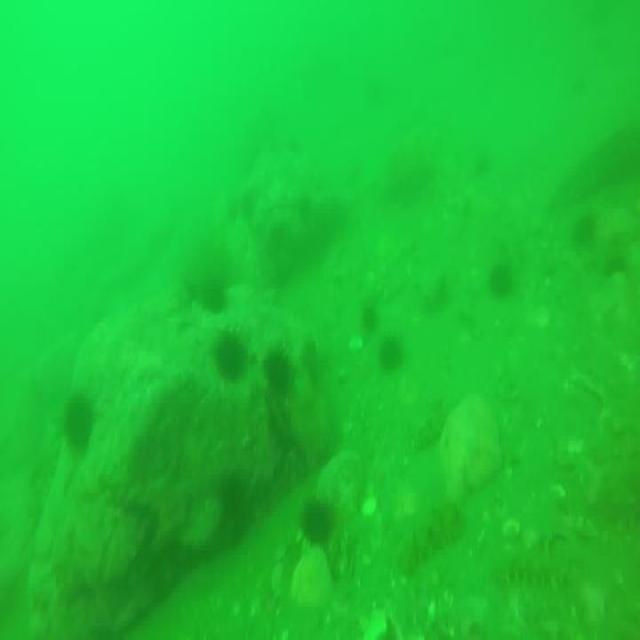echinus: (61, 387, 95, 452), (300, 494, 336, 546), (216, 328, 248, 386), (261, 344, 296, 390), (378, 332, 406, 373), (200, 274, 227, 314), (575, 212, 598, 250), (490, 266, 513, 297), (362, 305, 379, 329)
holothurian: (392, 500, 466, 570), (494, 550, 574, 593), (408, 392, 460, 444)
scallop: (502, 517, 520, 537), (551, 482, 565, 504)
